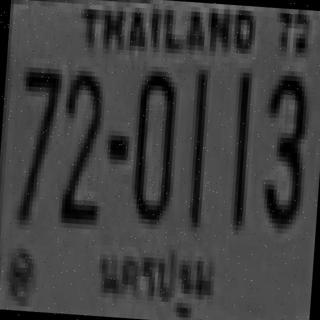N00: (129, 65, 178, 220)
N01: (227, 70, 252, 228), (184, 67, 209, 225)
N02: (56, 68, 105, 222)
N03: (260, 70, 309, 225)
N07: (13, 62, 60, 222)
P28: (86, 233, 224, 320)
